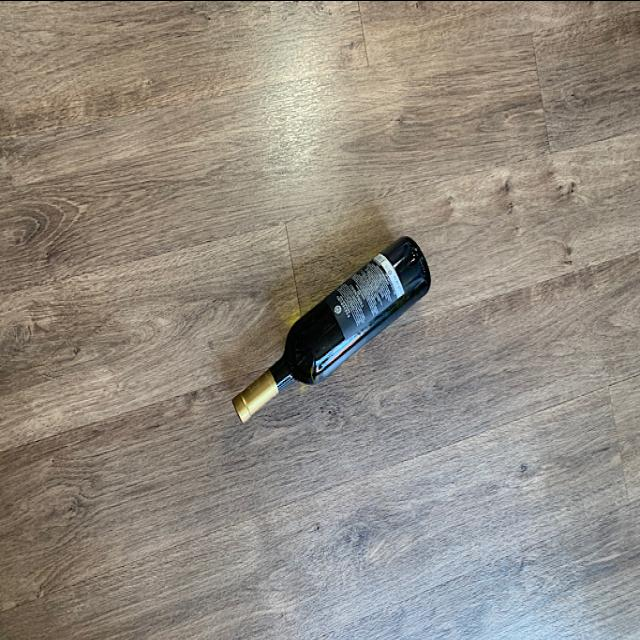Glass Bottle: (228, 230, 432, 422)
